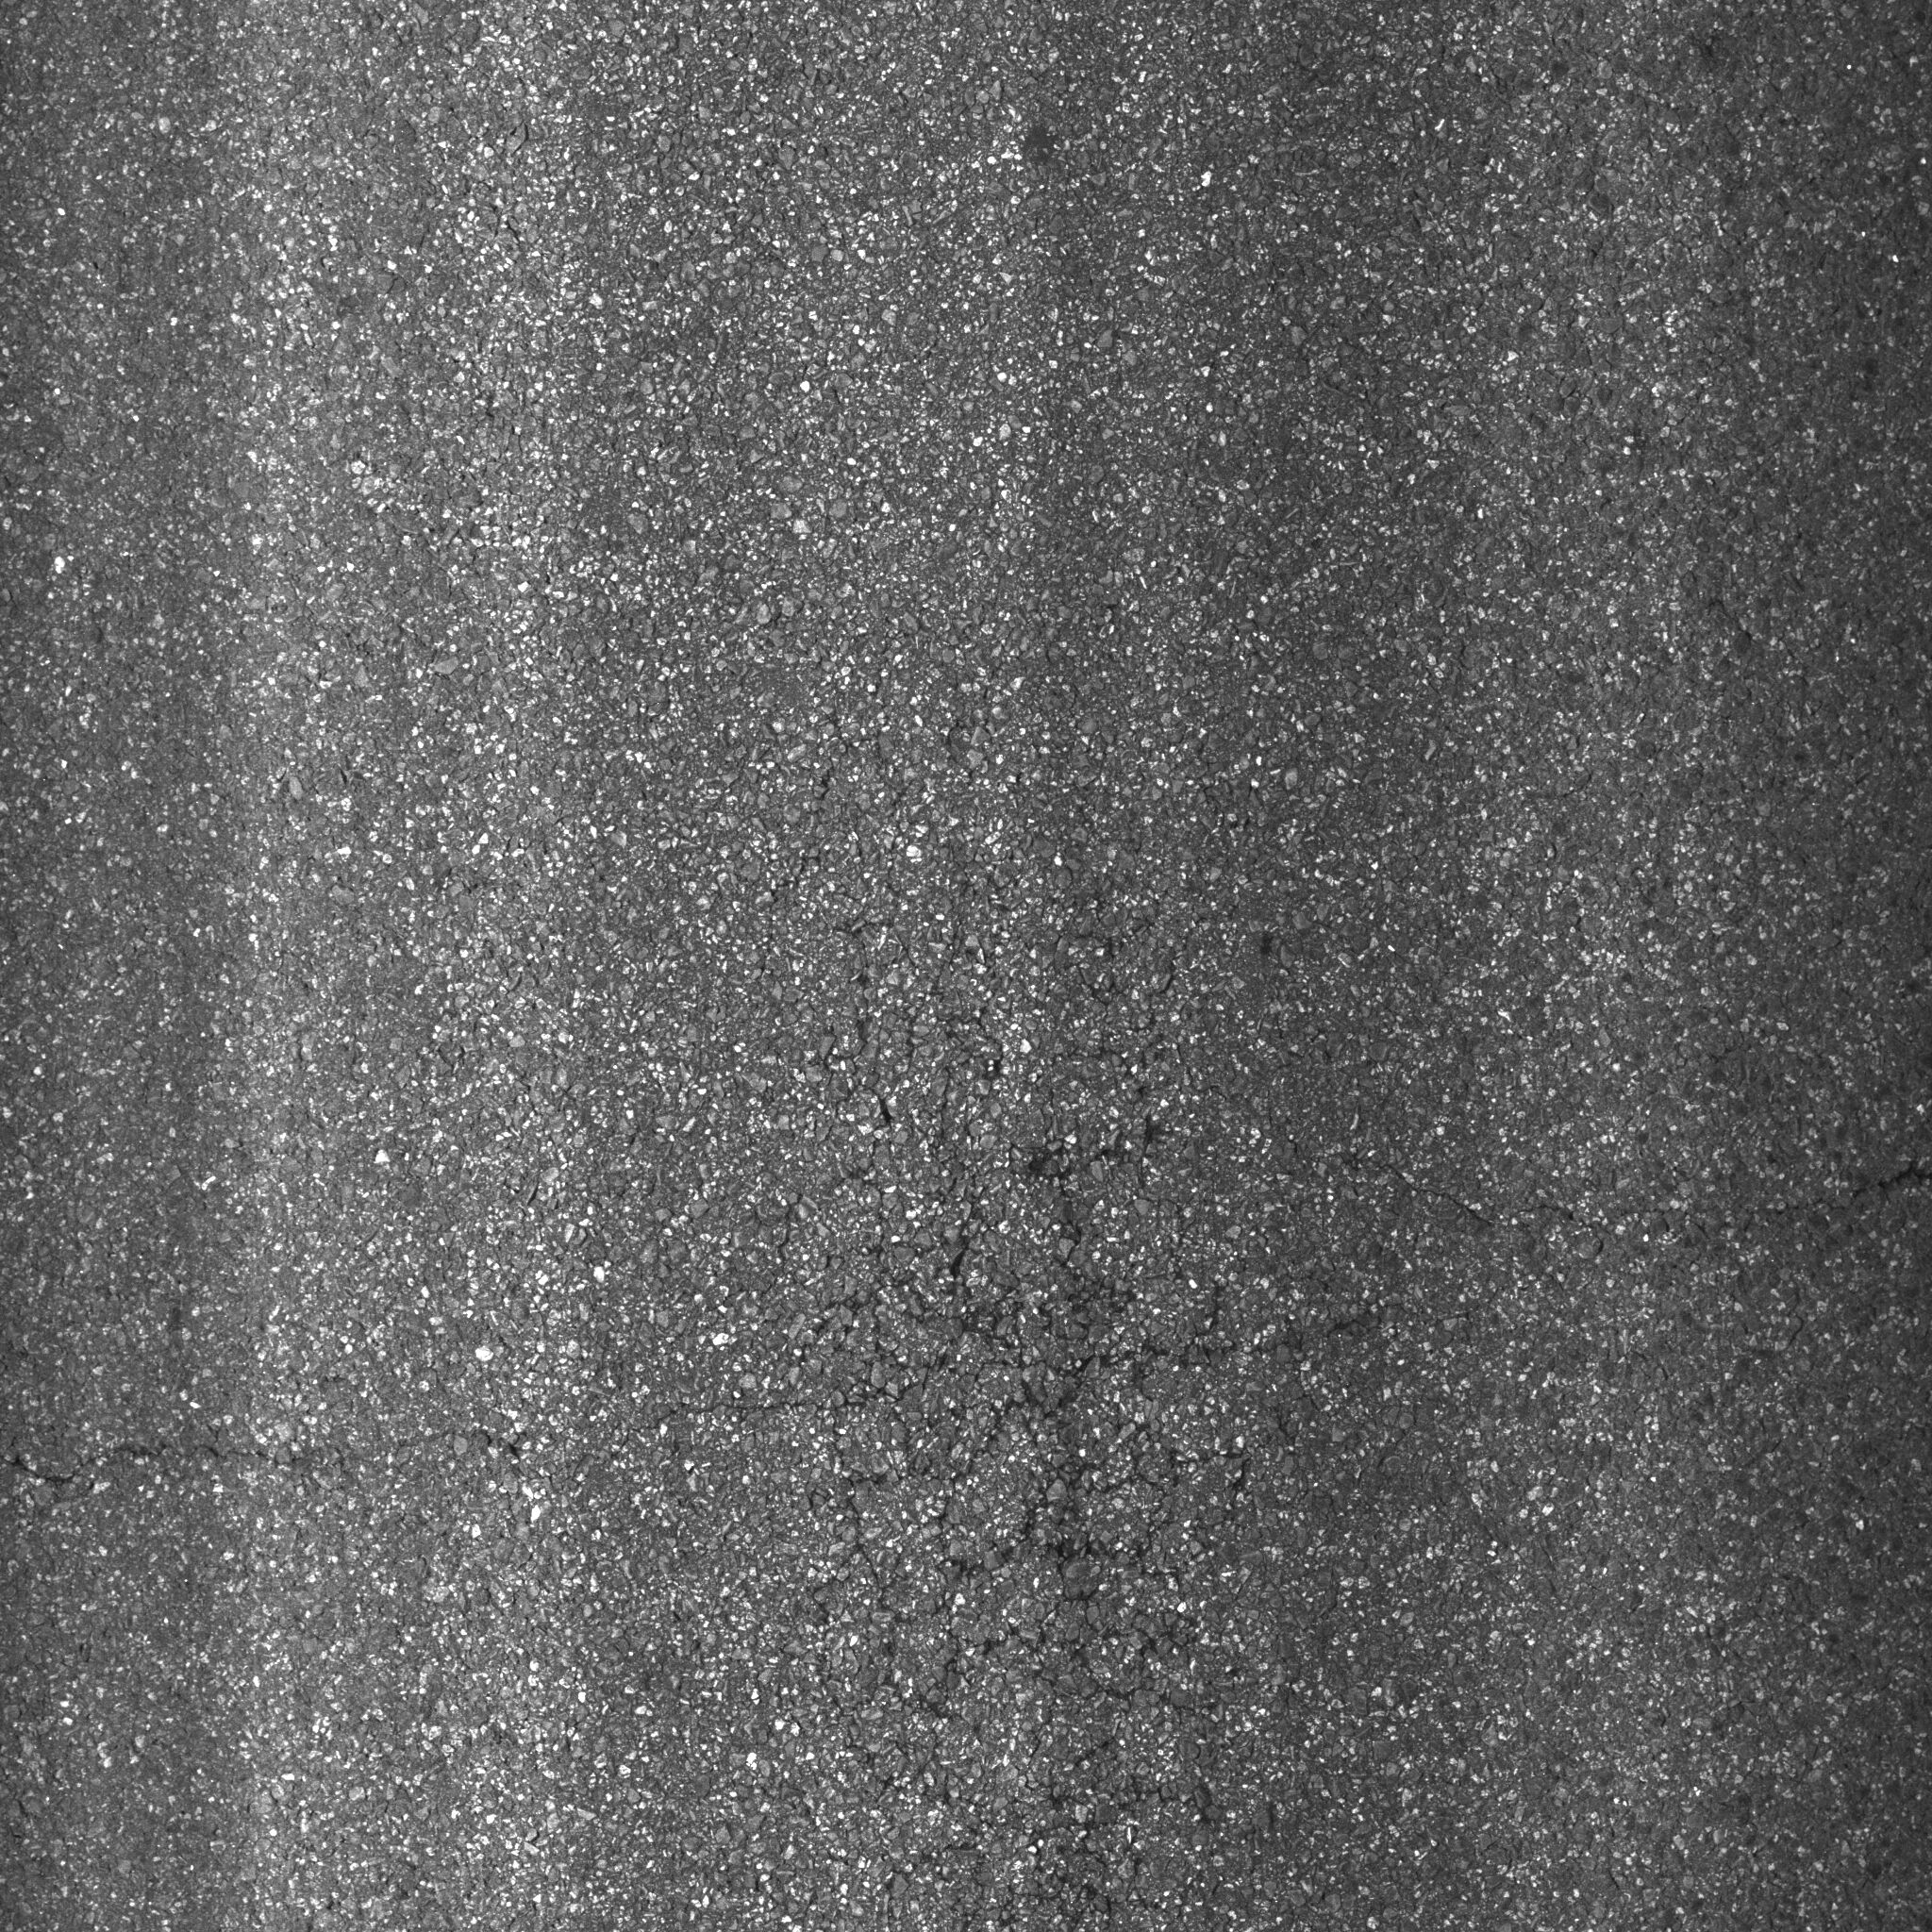transeverse: (21, 1352, 975, 1513)
